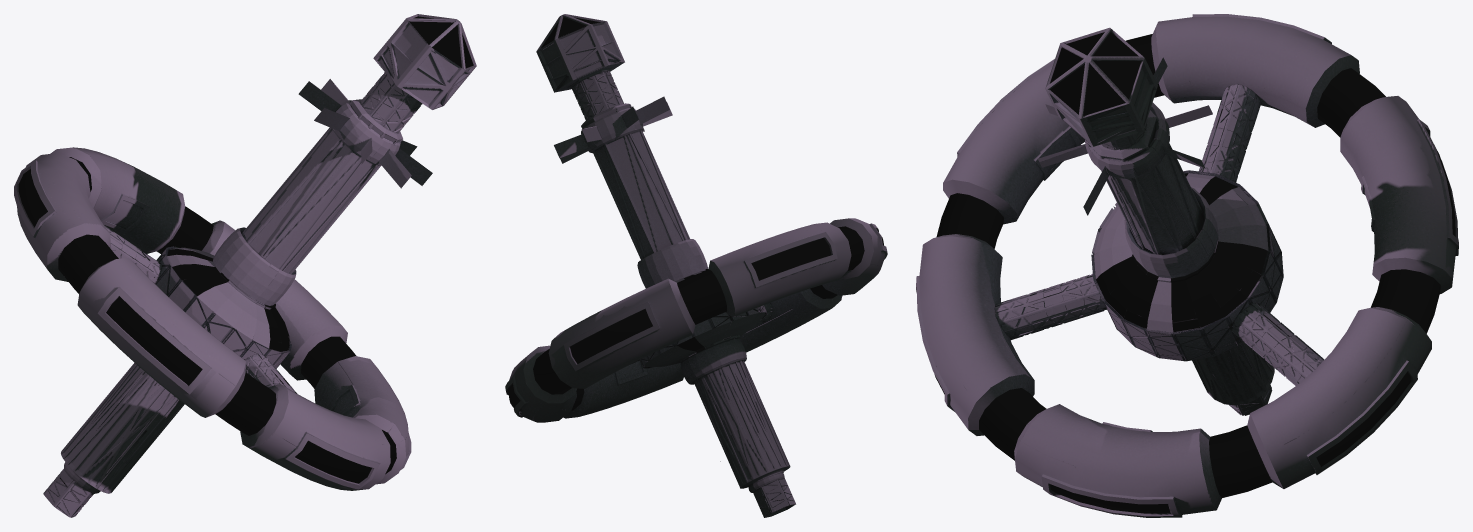
The model's file is station.glb.
The picture shows the model from 3 angles, left to right: view 1: azimuth 30°, elevation 25°; view 2: azimuth 150°, elevation 25°; view 3: azimuth 270°, elevation 25°; orthographic projection. The views are drawn at different scales.
Parts seen in each view (by area): view 1: Torus.001; view 2: Torus.001; view 3: Torus.001.
Boxes of the visible parts, x1,y1,x2,y2 form: Torus.001: (14, 14, 476, 517); Torus.001: (505, 14, 887, 517); Torus.001: (916, 14, 1458, 517).
Size of the model in its own units: 0.6266 by 0.7241 by 0.6597.
Materials: 2 (2 with a texture image).
